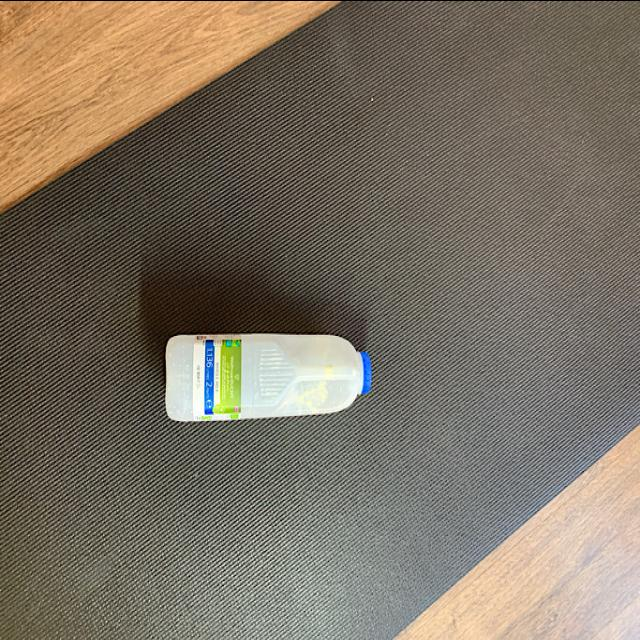litter: (165, 328, 377, 423)
